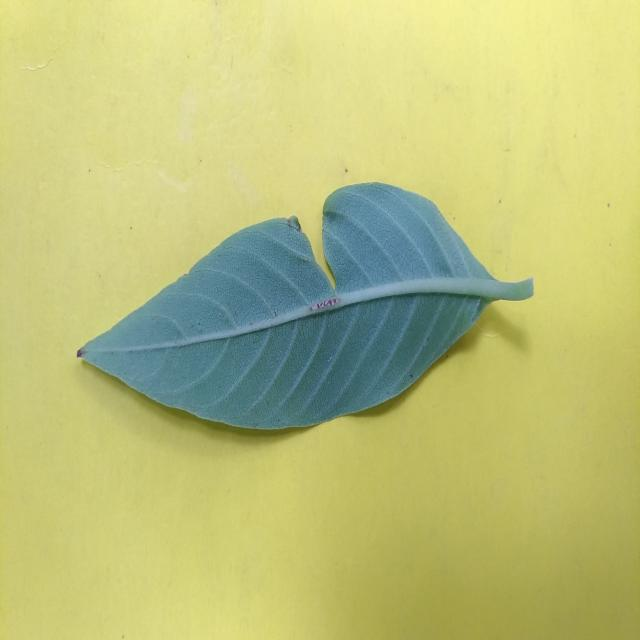seethaashoka: (78, 182, 534, 429)
